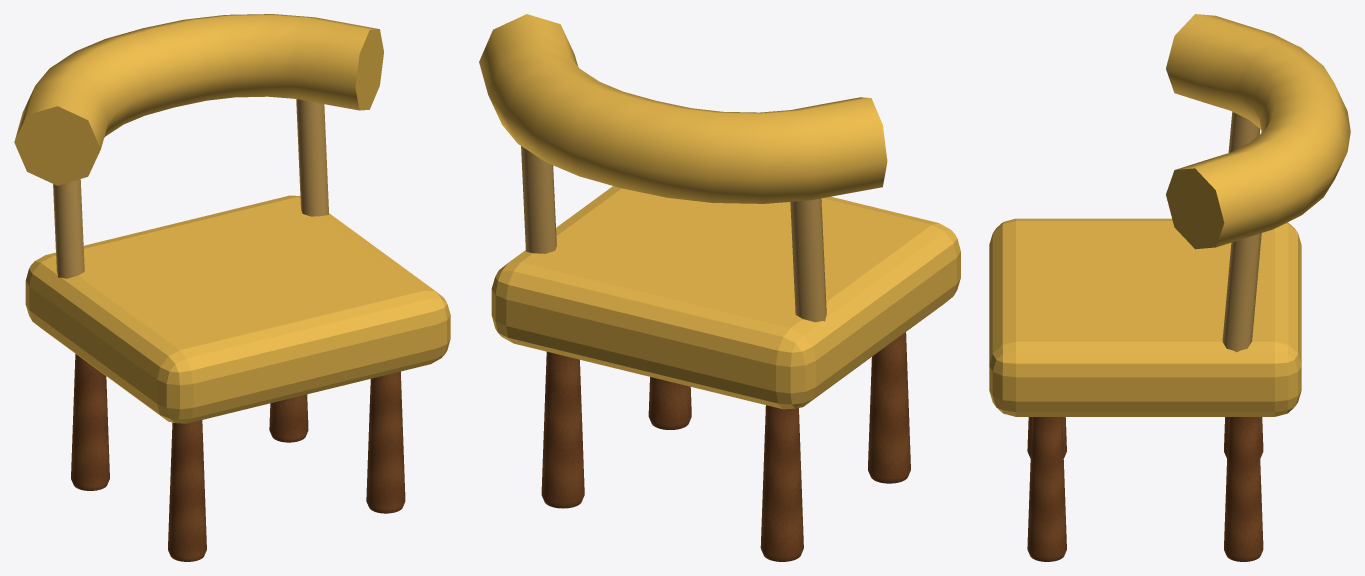
The model's file is chair.glb.
3 views of the same model, side by side, from view 1: azimuth 30°, elevation 25°; view 2: azimuth 150°, elevation 25°; view 3: azimuth 270°, elevation 25° (orthographic). The views are drawn at different scales.
Parts seen in each view (by area): view 1: Communal chair cushion, Communal chair back, Communal chair leg.001, Communal chair leg.003, Communal chair leg, Communal chair support.001, Communal chair support, Communal chair leg.002; view 2: Communal chair cushion, Communal chair back, Communal chair leg, Communal chair leg.002, Communal chair leg.001, Communal chair support, Communal chair support.001, Communal chair leg.003; view 3: Communal chair cushion, Communal chair back, Communal chair leg.003, Communal chair leg.002, Communal chair support.001, Communal chair support.
Part boxes in pixels (x1,y1,x2,y2): Communal chair cushion: (25, 195, 450, 423); Communal chair back: (14, 14, 383, 185); Communal chair leg.001: (168, 420, 206, 561); Communal chair leg.003: (366, 371, 405, 513); Communal chair leg: (71, 354, 109, 490); Communal chair support.001: (296, 99, 329, 216); Communal chair support: (53, 179, 84, 278); Communal chair leg.002: (269, 394, 308, 442); Communal chair cushion: (491, 186, 960, 409); Communal chair back: (479, 14, 887, 203); Communal chair leg: (760, 405, 803, 561); Communal chair leg.002: (541, 352, 584, 508); Communal chair leg.001: (868, 332, 910, 483); Communal chair support: (790, 198, 826, 322); Communal chair support.001: (521, 146, 556, 253); Communal chair leg.003: (648, 377, 691, 429); Communal chair cushion: (989, 218, 1301, 416); Communal chair back: (1166, 14, 1350, 249); Communal chair leg.003: (1027, 417, 1066, 561); Communal chair leg.002: (1224, 417, 1263, 561); Communal chair support.001: (1222, 233, 1261, 352); Communal chair support: (1228, 112, 1260, 152).
Bounding box in the file's own units: 0.969 × 1.03 × 0.81.
3 materials, 1 textured.
